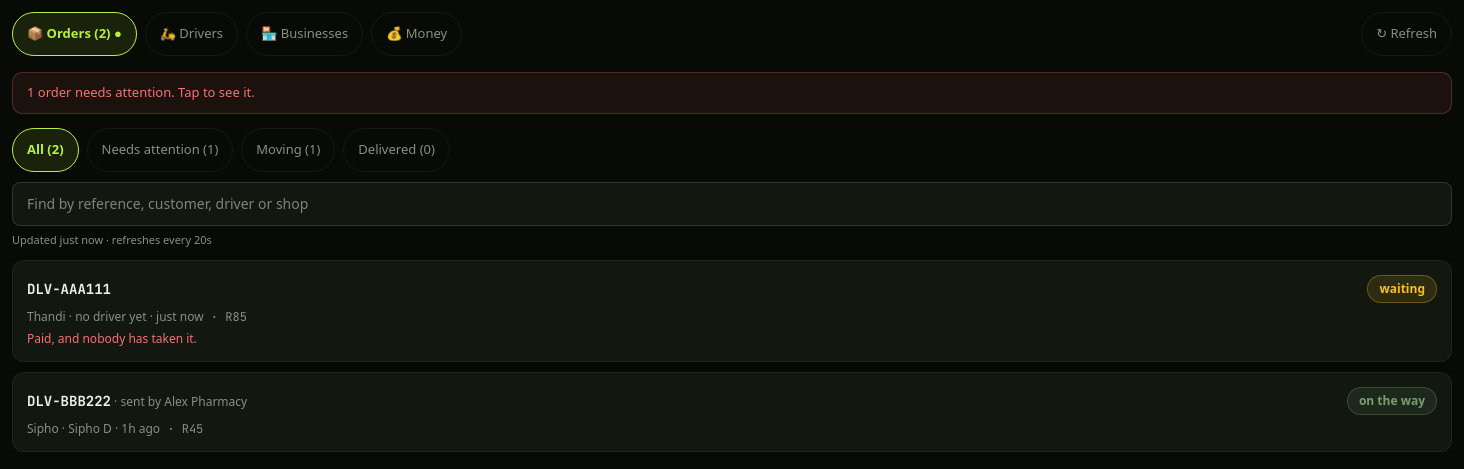
DeliveryTab › keeps the drivers money out of what the business kept
The image size is (1464, 469).
Expected: the text "DLV-AAA111" is shown, top-left (27, 280), bottom-right (111, 298)
Click the button "💰 Money": (417, 34) top-left (371, 12), bottom-right (462, 56)
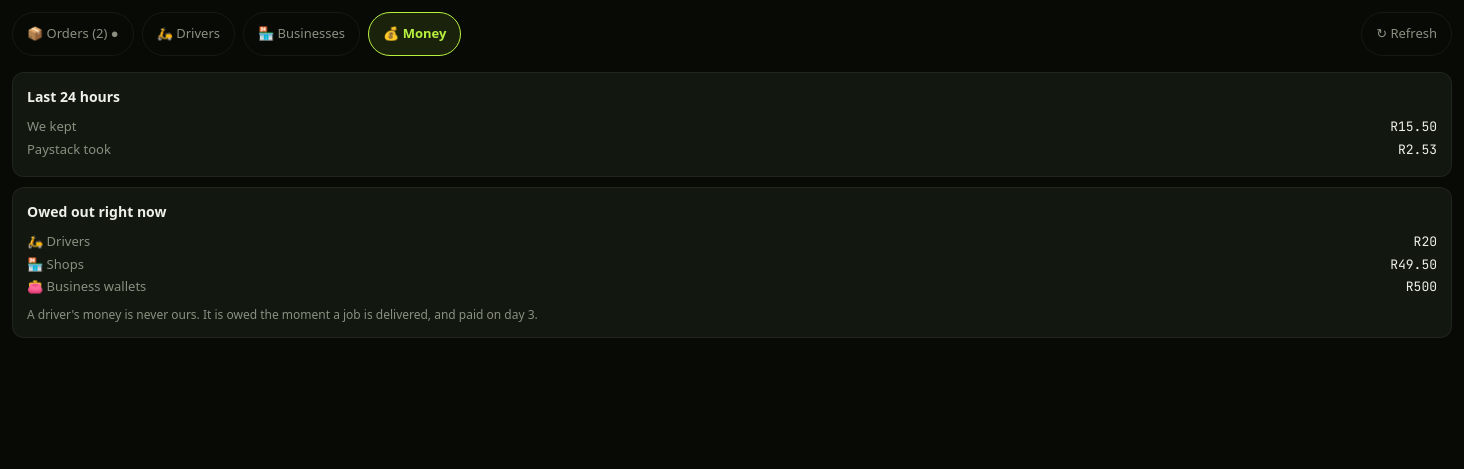
Expected: the text "We kept" is shown, top-left (27, 117), bottom-right (76, 136)
Expected: the text "Owed out right now" is shown, top-left (27, 202), bottom-right (166, 221)
Expected: the text "never ours" is shown, top-left (27, 306), bottom-right (538, 322)
